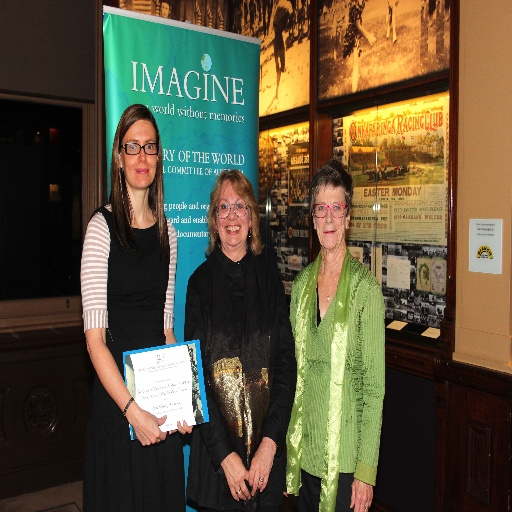hand: (246, 438, 277, 503), (221, 449, 251, 503), (133, 404, 171, 445), (348, 475, 374, 511), (167, 417, 193, 436)
